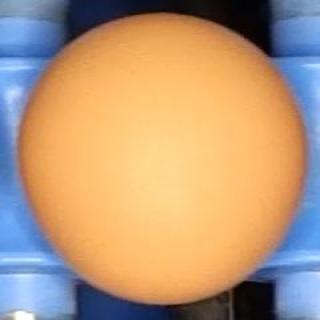Telur: (9, 12, 312, 306)
